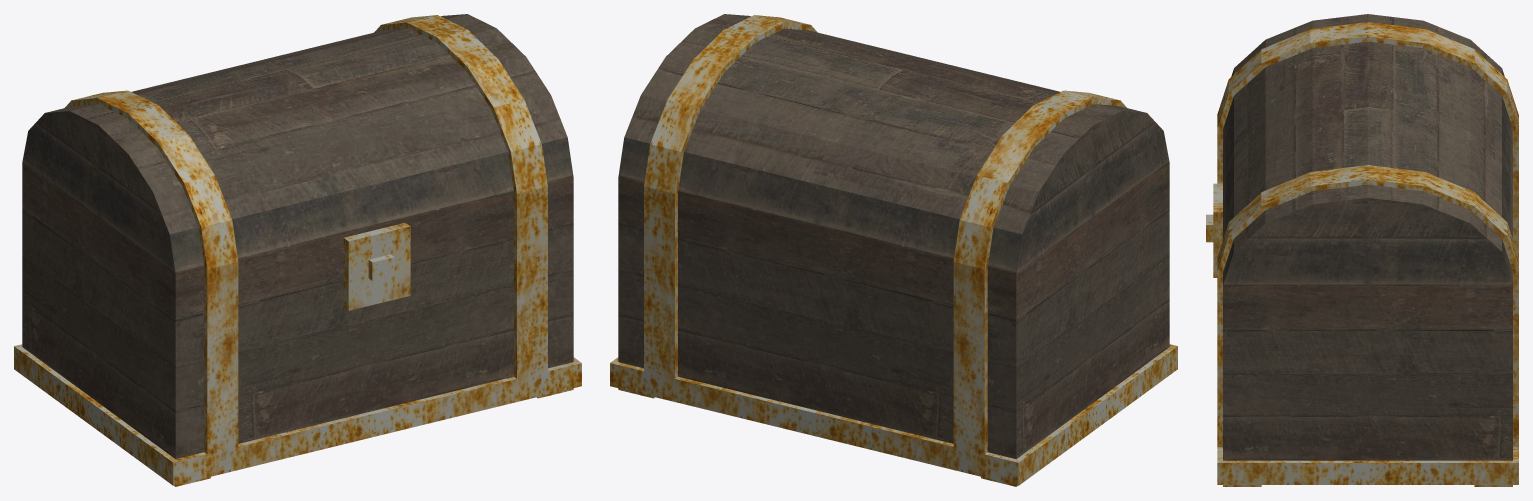
File: chest.glb
3 renders of one model, left to right at view 1: azimuth 30°, elevation 25°; view 2: azimuth 150°, elevation 25°; view 3: azimuth 270°, elevation 25°, orthographic. The views are drawn at different scales.
Visible parts, largest first — view 1: body, lid; view 2: body, lid; view 3: lid, body.
Part boxes in pixels (x1,y1,x2,y2): body: (14,162,581,486); lid: (22,14,573,273); body: (610,162,1177,486); lid: (618,14,1169,273); lid: (1217,14,1518,285); body: (1206,129,1518,486).
Size of the model in its own units: 0.924 by 0.672 by 0.647.
Materials: 2 (2 with a texture image).
